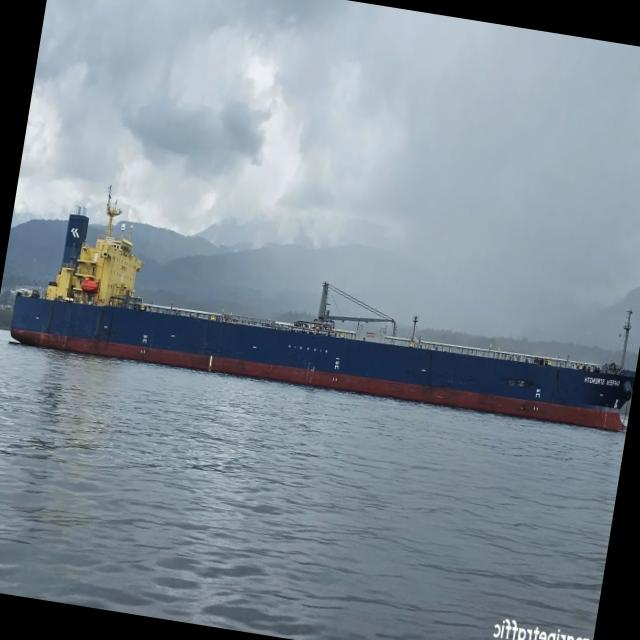Tanker: (11, 207, 636, 430)
